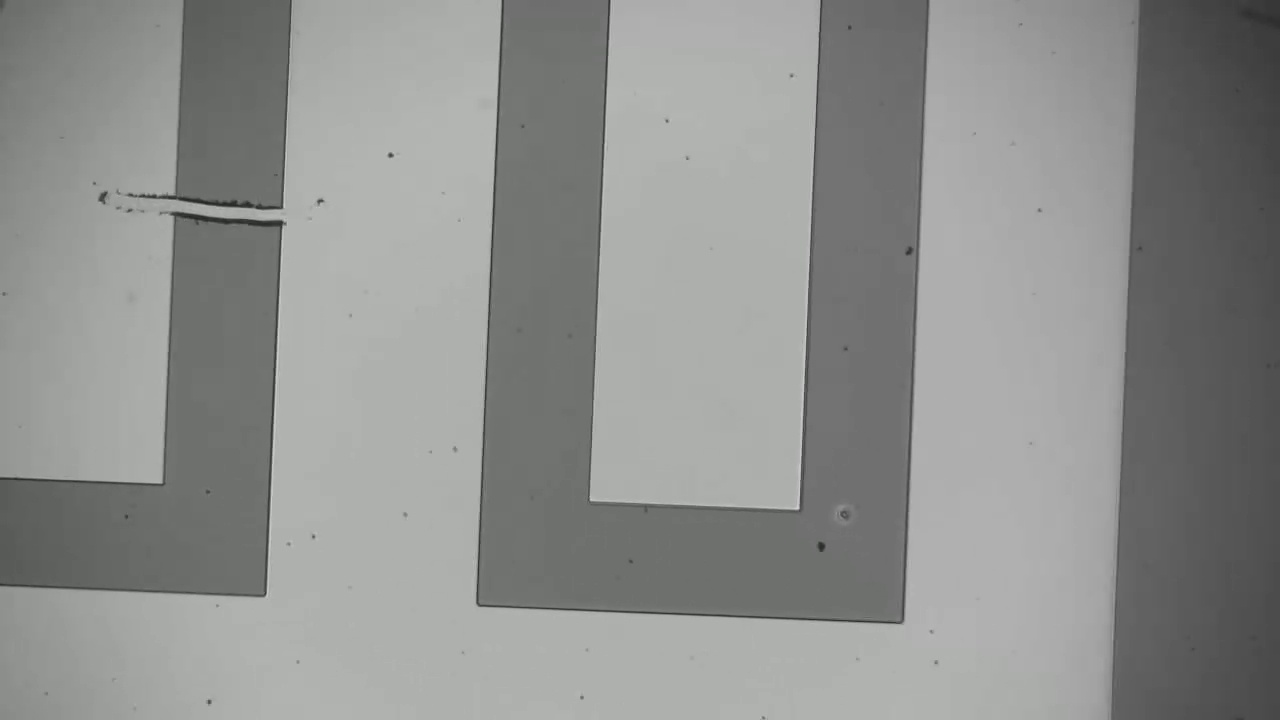Short_circuit: (139, 169, 311, 250)
